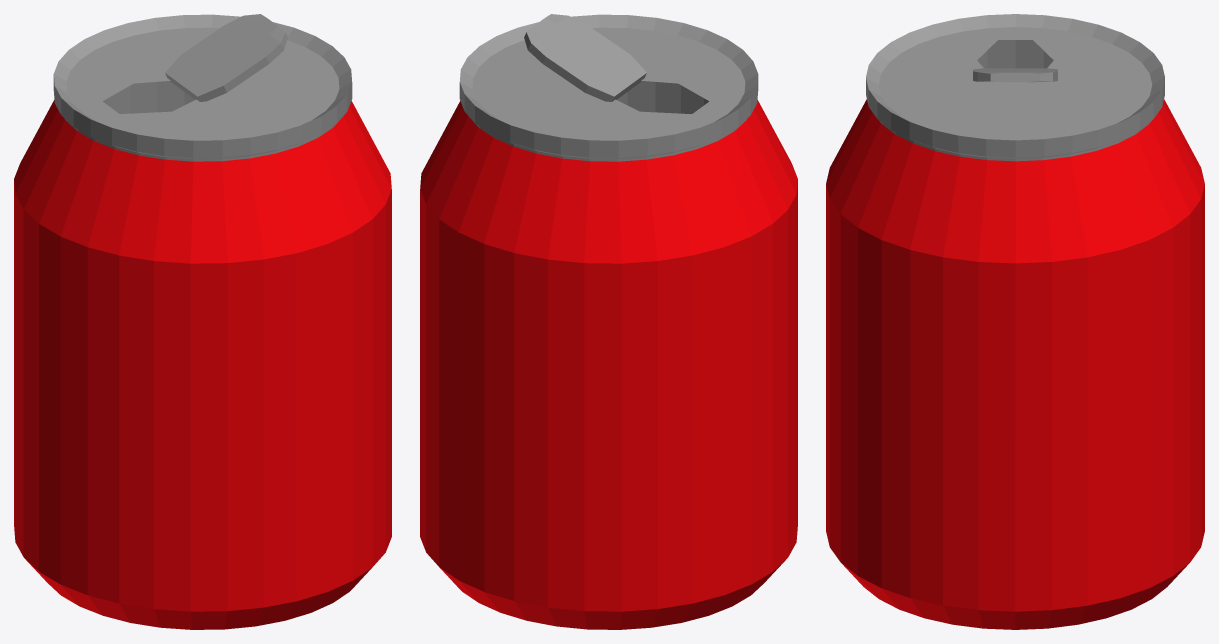
File: colabox.fbx
The picture shows the model from 3 angles, left to right: view 1: azimuth 30°, elevation 25°; view 2: azimuth 150°, elevation 25°; view 3: azimuth 270°, elevation 25°; orthographic projection.
Visible parts, largest first — view 1: Cylinder; view 2: Cylinder; view 3: Cylinder.
Boxes of the visible parts, x1,y1,x2,y2 form: Cylinder: (14,14,391,629); Cylinder: (420,14,797,629); Cylinder: (826,14,1204,629).
Size of the model in its own units: 200 by 304 by 200.
